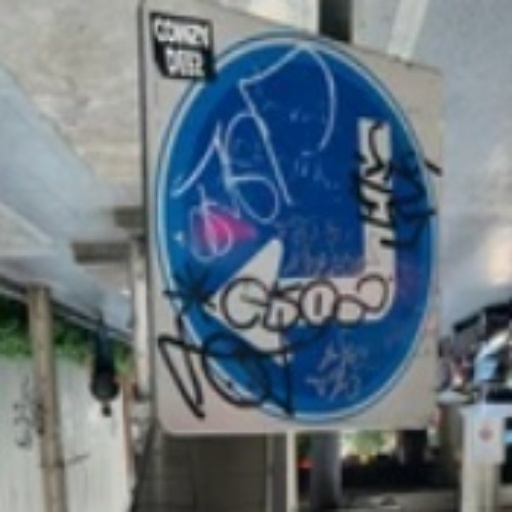Turn left: (196, 76, 418, 370)
